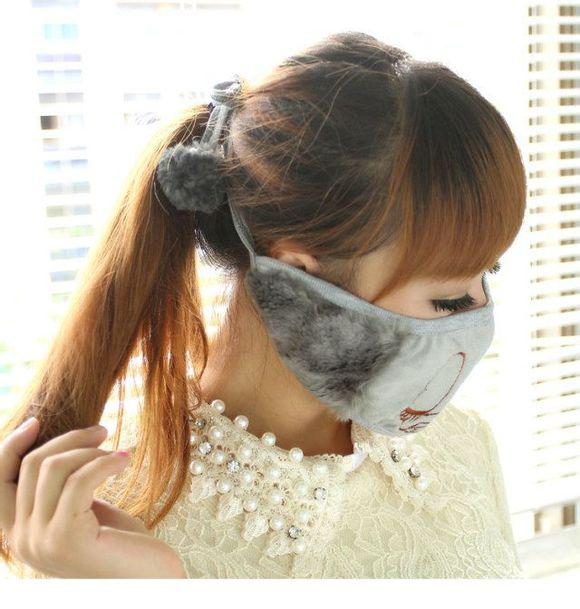OK: (300, 230, 502, 432)
